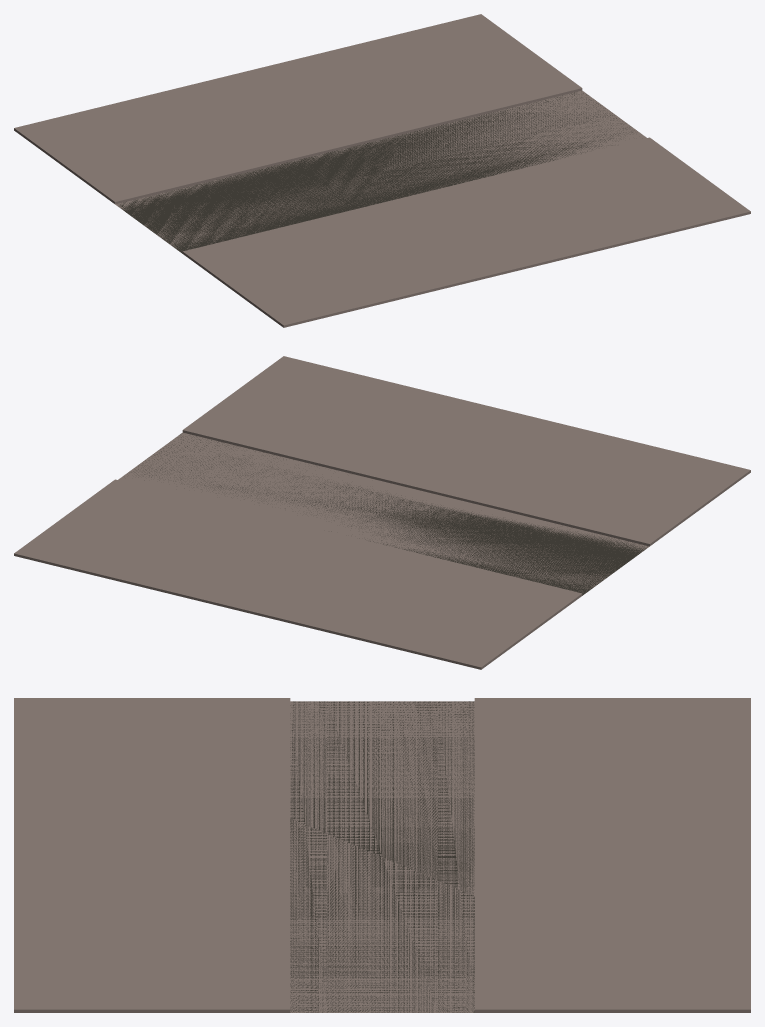
File: Env_Street.fbx
The picture shows the model from 3 angles, top to bottom: view 1: azimuth 30°, elevation 25°; view 2: azimuth 150°, elevation 25°; view 3: azimuth 270°, elevation 25°; orthographic projection. The views are drawn at different scales.
Parts seen in each view (by area): view 1: Env_Street; view 2: Env_Street; view 3: Env_Street.
Boxes of the visible parts, x1=… form: Env_Street: x1=14, y1=14, x2=750, y2=327; Env_Street: x1=14, y1=356, x2=750, y2=669; Env_Street: x1=14, y1=698, x2=750, y2=1012.
Size of the model in its own units: 2000 by 10 by 2000.
